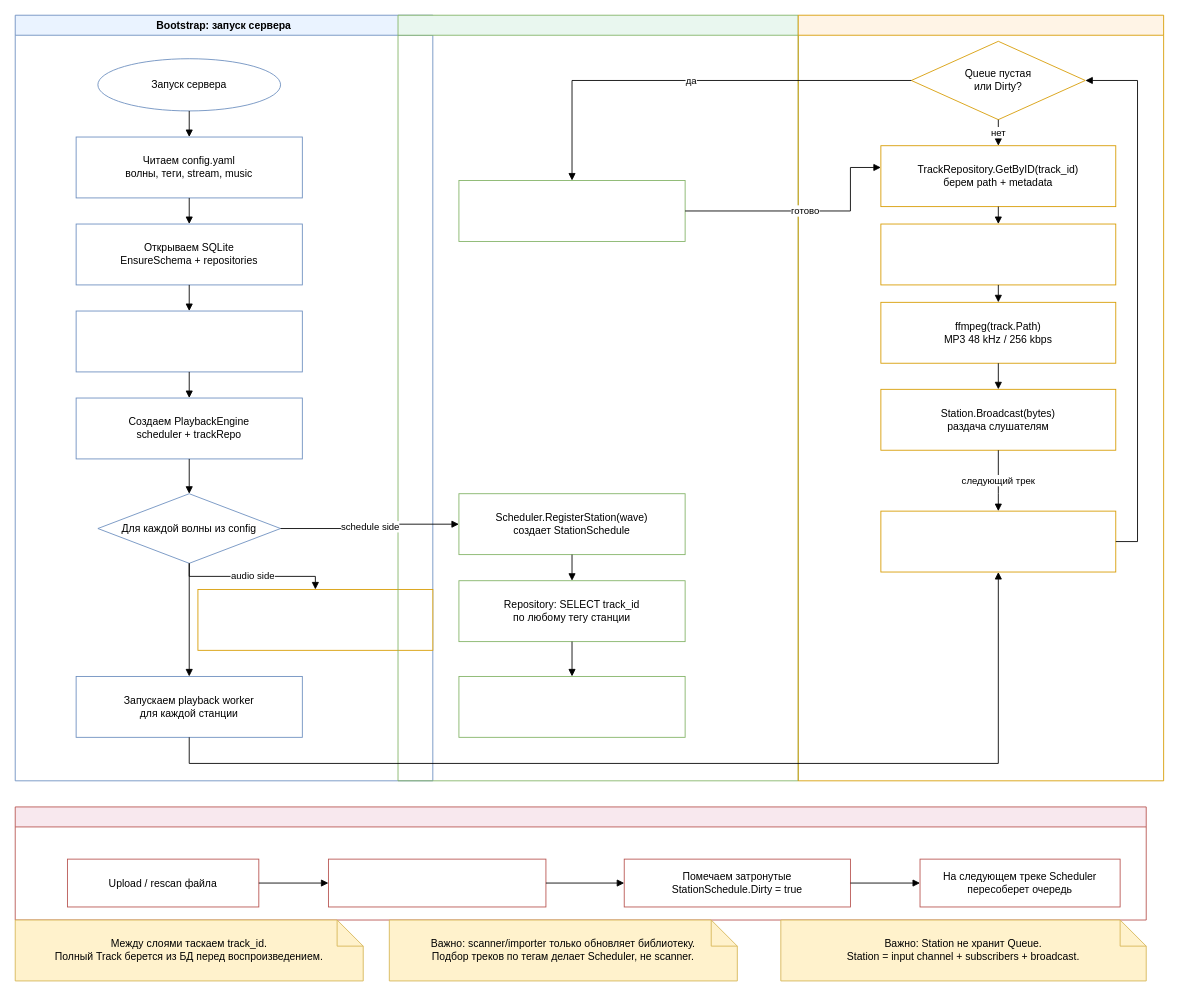
This 1179x996 diagram has some shape labels left out. Each missing label, with the box of its shape:
Library update: добавление/изменение треков: (14, 806, 1146, 920)
PlaybackEngine + Station: звук и слушатели: (797, 14, 1164, 781)
PlaybackEngine.CreateStation(wave) создает Station как аудио-канал: (197, 589, 433, 650)
Scheduler перечитывает track_id из БД, shuffle, refill: (458, 180, 685, 241)
Scheduler: очереди и правила: (397, 14, 798, 781)
Shuffle track_id заполняем Queue внутри Scheduler: (458, 676, 685, 737)
Worker спрашивает Scheduler.NextTrackID(stationID): (880, 510, 1116, 572)
WS now playing title, artist, album, started_at: (880, 223, 1116, 285)
Парсим metadata/tags tracks + track_tags в БД: (328, 858, 546, 907)
Создаем Scheduler(repo) он будет хранить StationSchedule: (75, 310, 302, 372)
